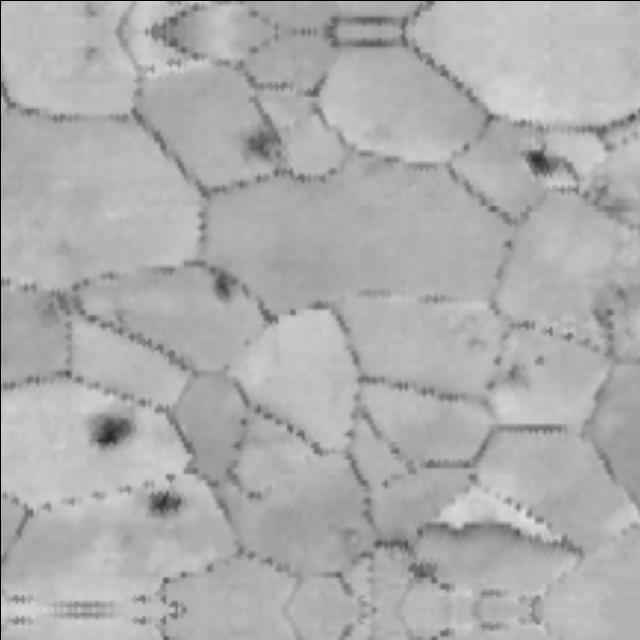good_void: (130, 477, 190, 527), (513, 146, 570, 188), (91, 410, 129, 452), (238, 121, 281, 158), (202, 266, 233, 297), (76, 37, 102, 68), (406, 556, 439, 578), (76, 0, 102, 23), (506, 362, 523, 381), (486, 373, 502, 392), (488, 349, 506, 364), (531, 351, 547, 366)
